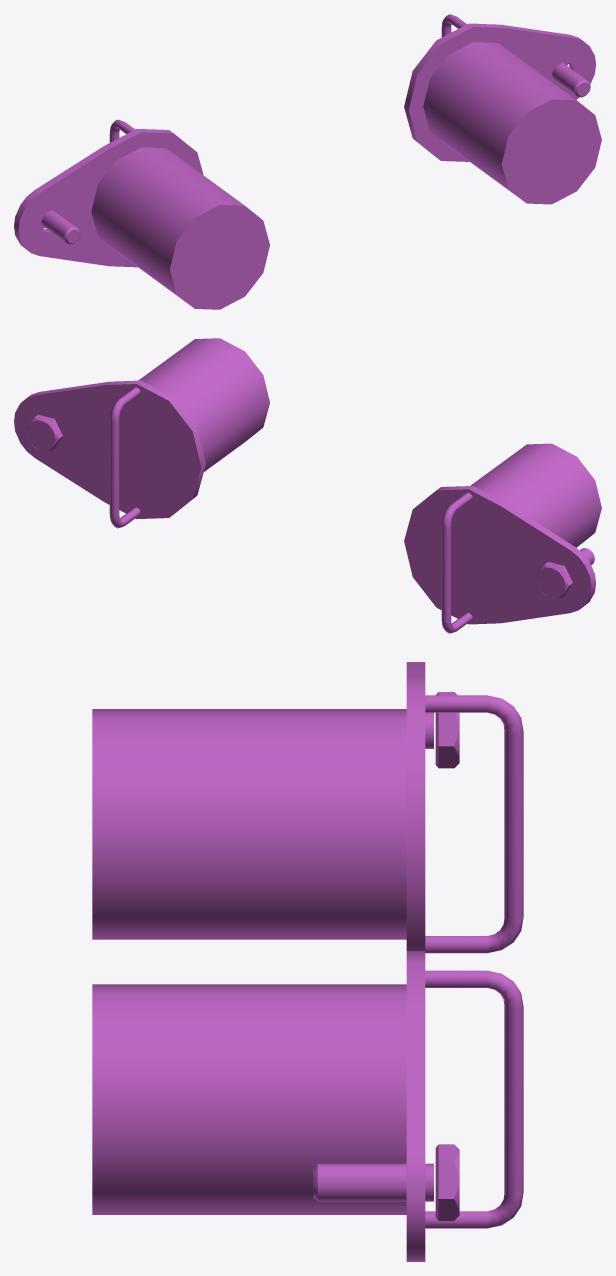
Rendered from SM_ShippingContainer_Pins_01.fbx.
3 renders of one model, top to bottom at view 1: azimuth 30°, elevation 25°; view 2: azimuth 150°, elevation 25°; view 3: azimuth 270°, elevation 25°, orthographic. The views are drawn at different scales.
Visible parts, largest first — view 1: SM_ShippingContainer_Supports_08.004; view 2: SM_ShippingContainer_Supports_08.004; view 3: SM_ShippingContainer_Supports_08.004.
Boxes of the visible parts, x1,y1,x2,y2 form: SM_ShippingContainer_Supports_08.004: (14, 14, 601, 309); SM_ShippingContainer_Supports_08.004: (14, 338, 601, 633); SM_ShippingContainer_Supports_08.004: (92, 662, 523, 1261).
Size of the model in its own units: 45.15 by 11.92 by 14.59.
